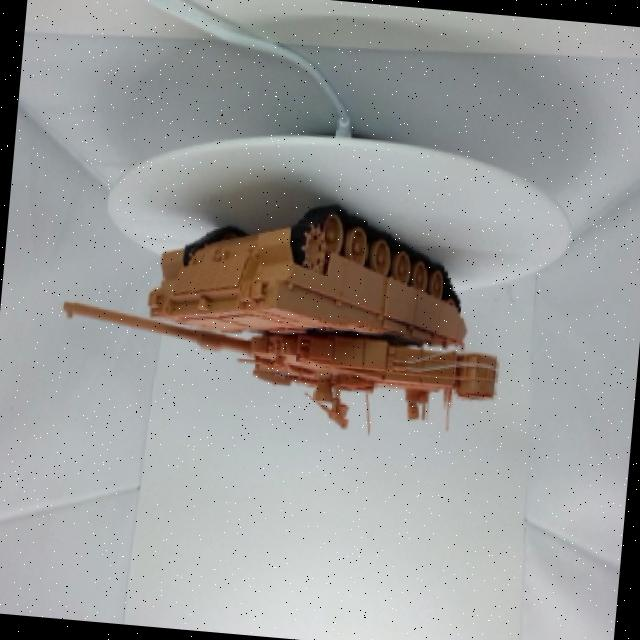korea tank: (31, 171, 527, 460)
